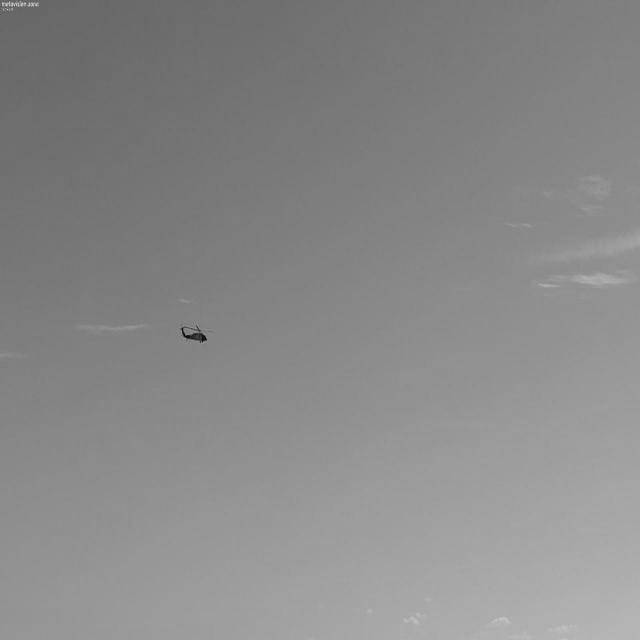helikopter: (164, 302, 228, 366)
